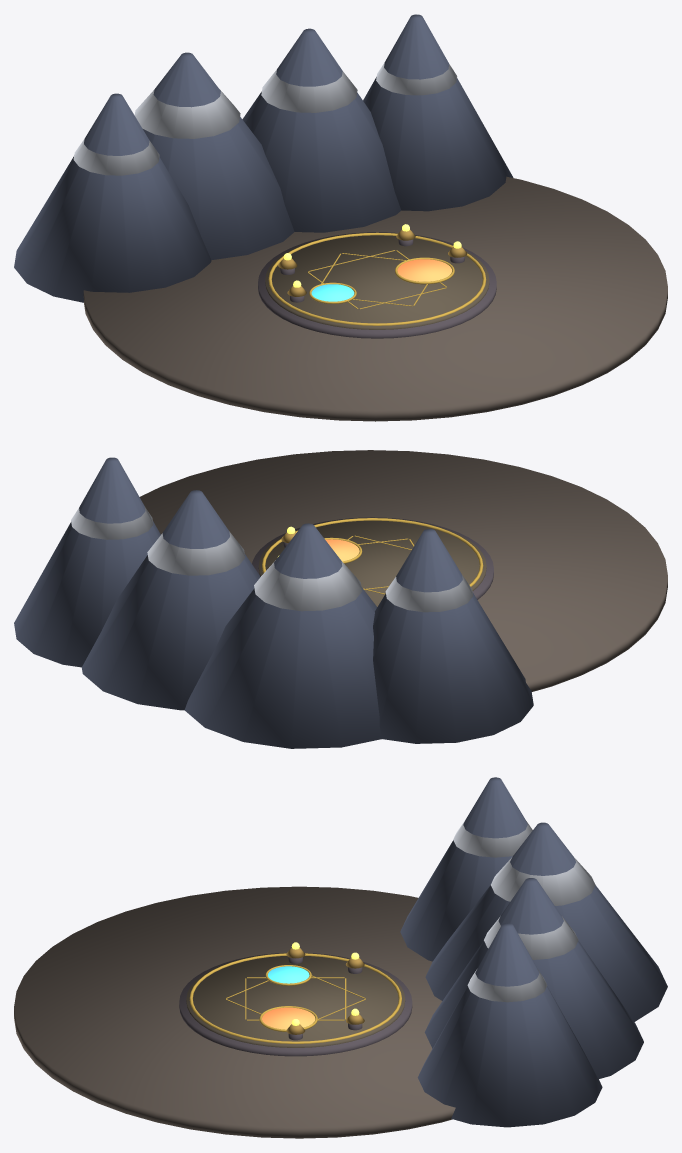
Rendered from duel_arena.glb.
3 views of the same model, one above another, from view 1: azimuth 30°, elevation 25°; view 2: azimuth 150°, elevation 25°; view 3: azimuth 270°, elevation 25° (orthographic). The views are drawn at different scales.
Visible parts, largest first — view 1: Cylinder, Cone.004, Cone.008, Cone.010, Cone.006, Cylinder.002, Cone.007, Cylinder.001, Cone.009, Cone.005, Torus, Cone.011 (+2 smaller); view 2: Cylinder, Cone.006, Cone.004, Cone.008, Cone.010, Cylinder.002, Cone.007, Cone.009, Cone.005, Cone.011, Cylinder.001, Torus (+1 smaller); view 3: Cylinder, Cone.010, Cylinder.002, Cone.006, Cone.008, Cone.004, Cylinder.001, Cone.007, Cone.009, Torus, Cone.005, Cone.011 (+2 smaller).
Boxes of the visible parts, box(x1,y1,x2,y2) form: Cylinder: box(83, 176, 667, 421); Cone.004: box(14, 93, 211, 302); Cone.008: box(242, 28, 401, 232); Cone.010: box(363, 14, 513, 211); Cone.006: box(143, 52, 294, 260); Cylinder.002: box(265, 232, 489, 329); Cone.007: box(134, 89, 240, 138); Cylinder.001: box(258, 232, 496, 338); Cone.009: box(261, 69, 357, 112); Cone.005: box(73, 139, 159, 175); Torus: box(268, 232, 486, 325); Cone.011: box(376, 63, 457, 95); Cylinder: box(139, 450, 667, 691); Cone.006: box(184, 523, 381, 748); Cone.004: box(373, 529, 533, 743); Cone.008: box(81, 490, 260, 710); Cone.010: box(14, 457, 160, 667); Cylinder.002: box(258, 517, 486, 606); Cone.007: box(254, 560, 362, 611); Cone.009: box(147, 531, 245, 575); Cone.005: box(385, 575, 473, 612); Cone.011: box(71, 506, 153, 539); Cylinder.001: box(252, 517, 493, 599); Torus: box(262, 518, 483, 586); Cylinder: box(14, 886, 455, 1138); Cone.010: box(417, 923, 602, 1127); Cylinder.002: box(186, 953, 405, 1047); Cone.006: box(425, 822, 667, 1021); Cone.008: box(424, 878, 643, 1078); Cone.004: box(400, 777, 527, 961); Cylinder.001: box(179, 953, 412, 1056); Cone.007: box(491, 857, 595, 905); Cone.009: box(484, 916, 578, 959); Torus: box(189, 953, 401, 1043); Cone.005: box(453, 821, 532, 857); Cone.011: box(467, 969, 547, 1002).
Bounding box in the file's own units: 48 × 15.1 × 55.
